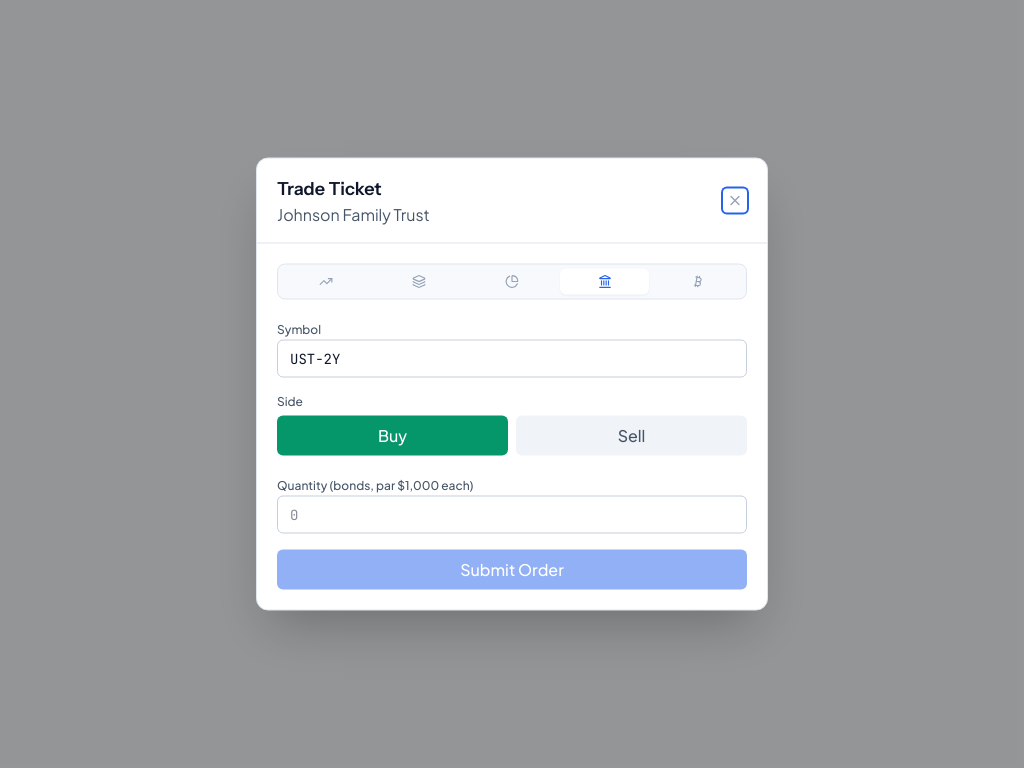
Test case: TradeTicketDialog — non-equity notional wiring (fix round 4) › a 2,000-bond UST-2Y buy blocks — $1,989,000 of par-adjusted notional, not the $198,900 that quantity x price would send
The width and height of the screenshot is (1024, 768).
In the number field labelled "Quantity (bonds, par $1,000 each)": x=512, y=514 [277,496,747,534], type "2000"
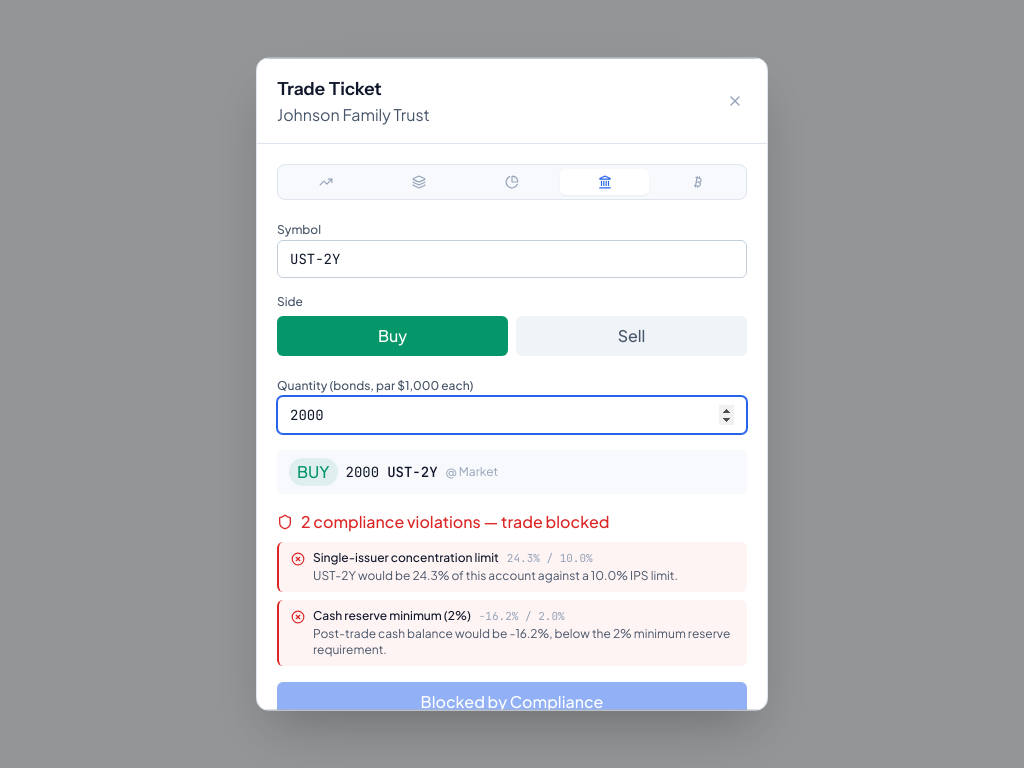
expect the text "2 compliance violations — trade blocked" is shown: met, box [301,510,610,534]
